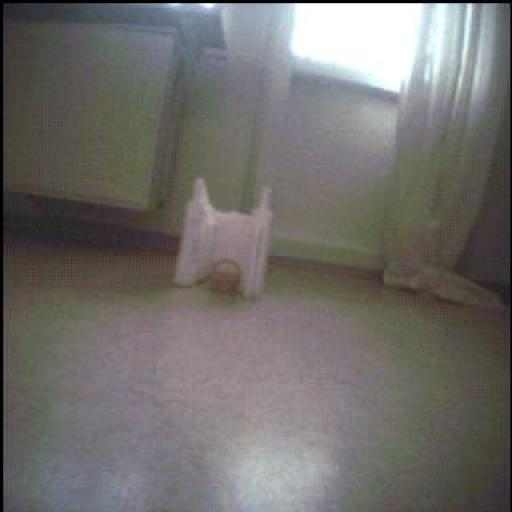Basket: (211, 260, 243, 294)
